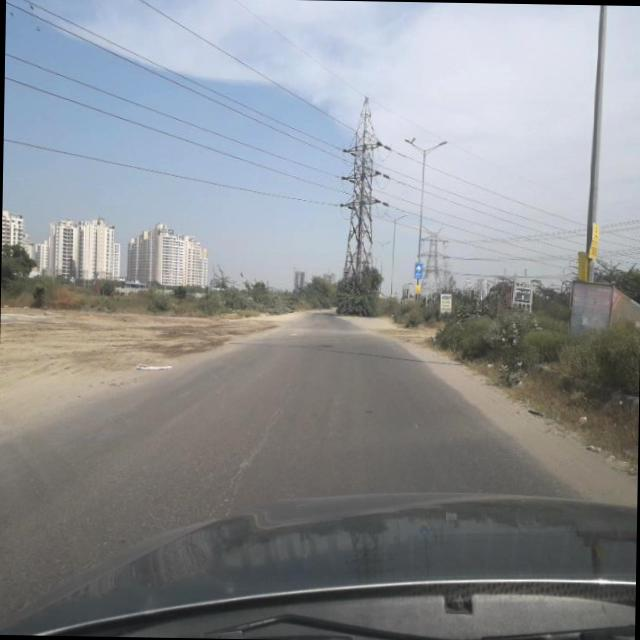crack: (214, 352, 300, 514)
